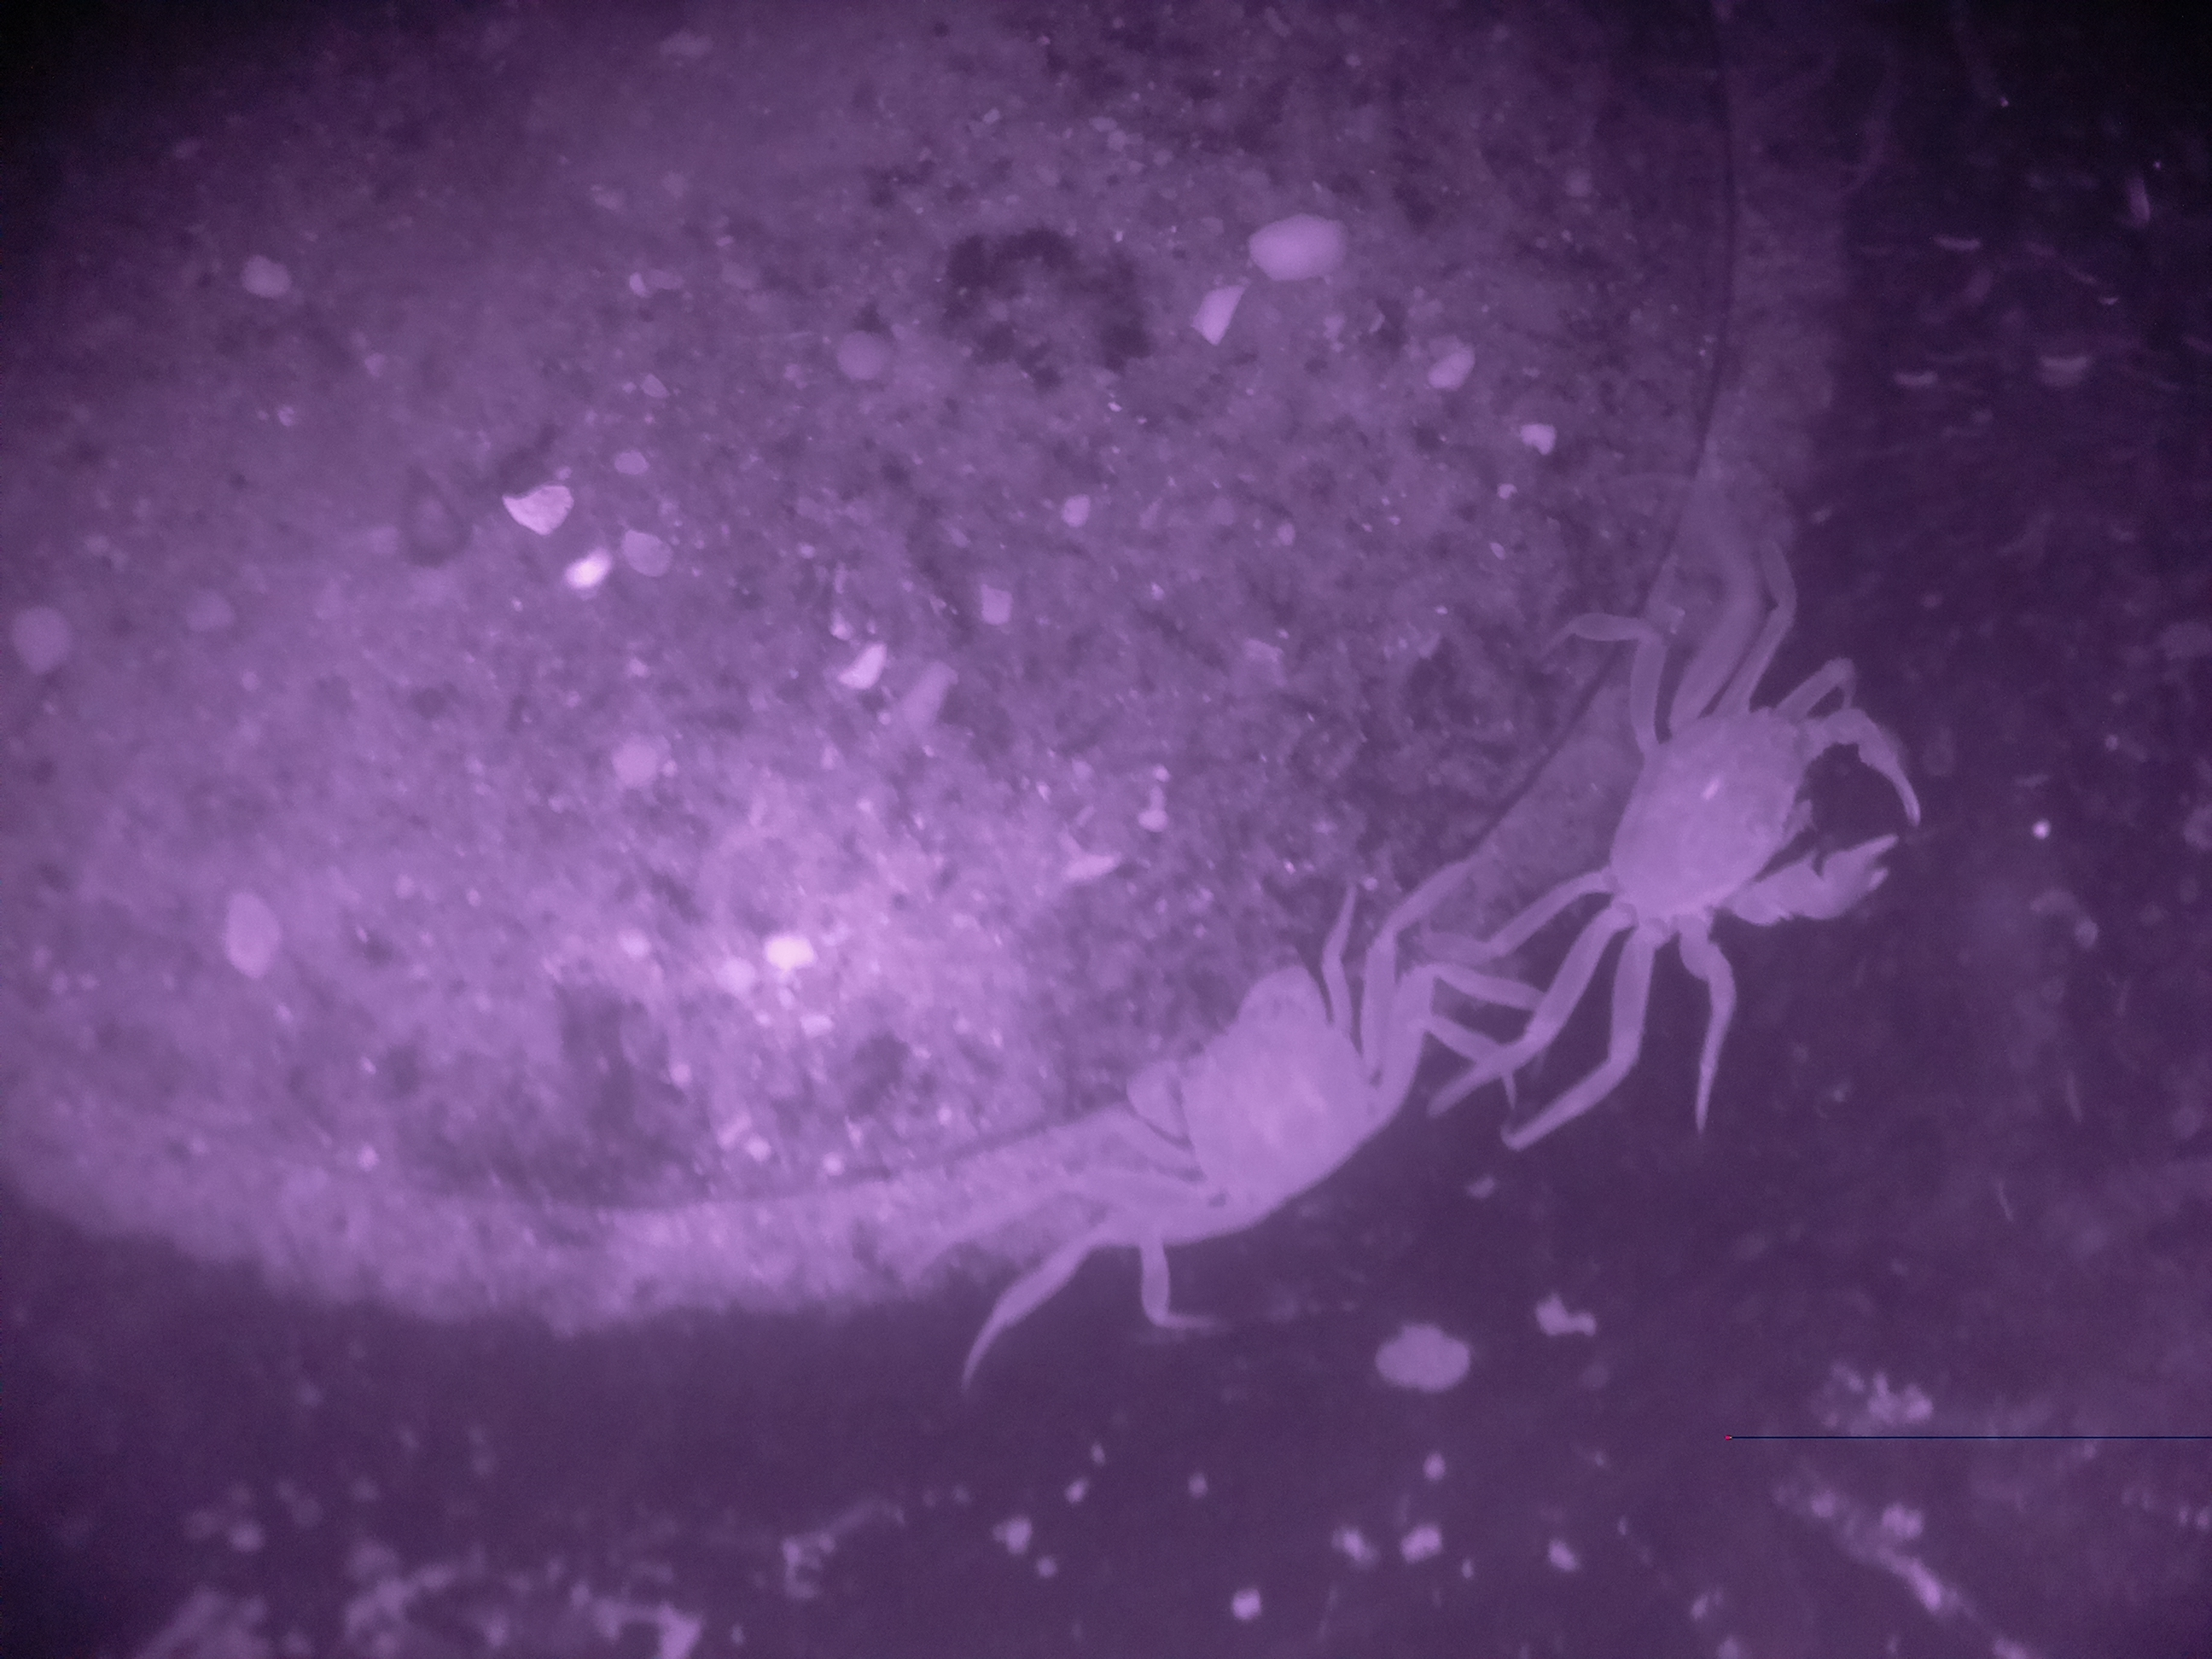Crab: (1521, 636, 1996, 1040), (1087, 892, 1474, 1337)
